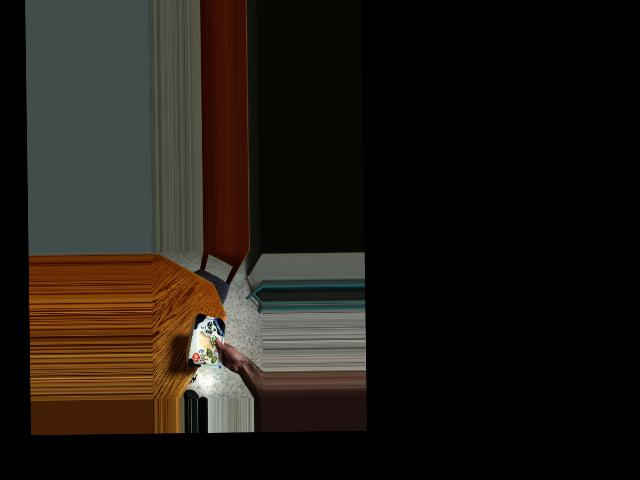cheese: (186, 314, 227, 368)
